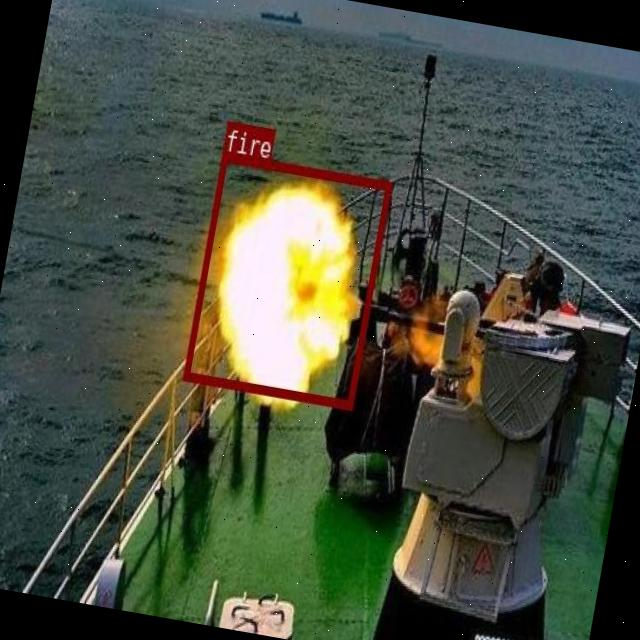fire: (182, 150, 391, 408)
